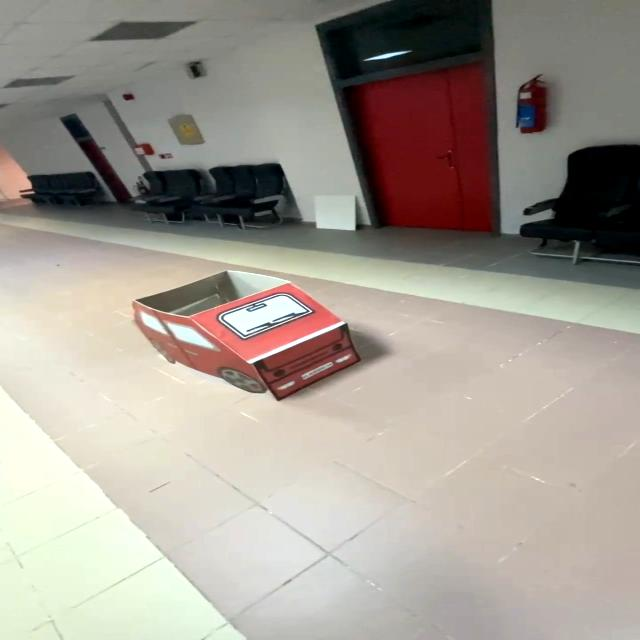red_car: (125, 262, 375, 415)
